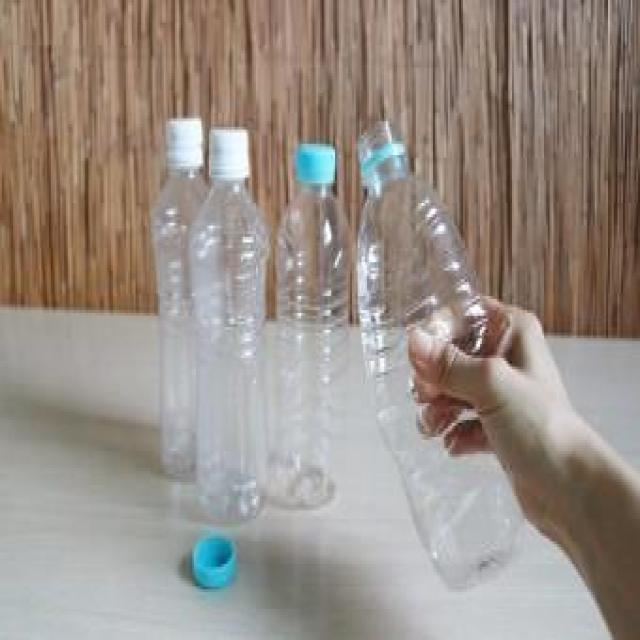bottle: (354, 121, 529, 589), (188, 130, 272, 516), (271, 141, 356, 510), (149, 116, 206, 479)
